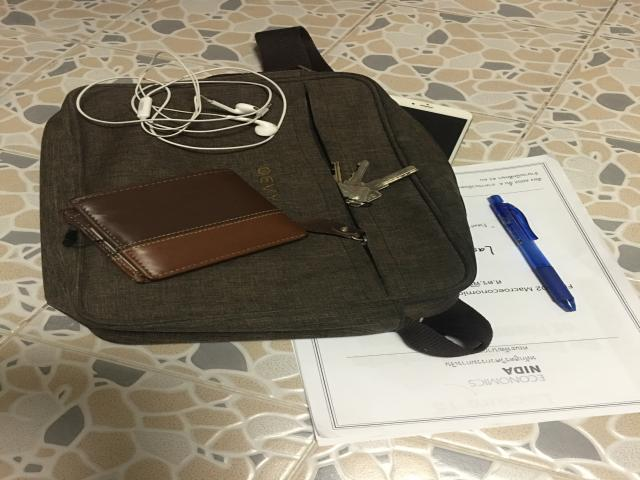Keys: (333, 160, 418, 206)
Mobile phone: (390, 96, 473, 163)
Pen: (488, 195, 577, 311)
Wallet: (60, 169, 308, 283)
paper: (254, 157, 638, 445)
wire: (77, 52, 287, 151)
